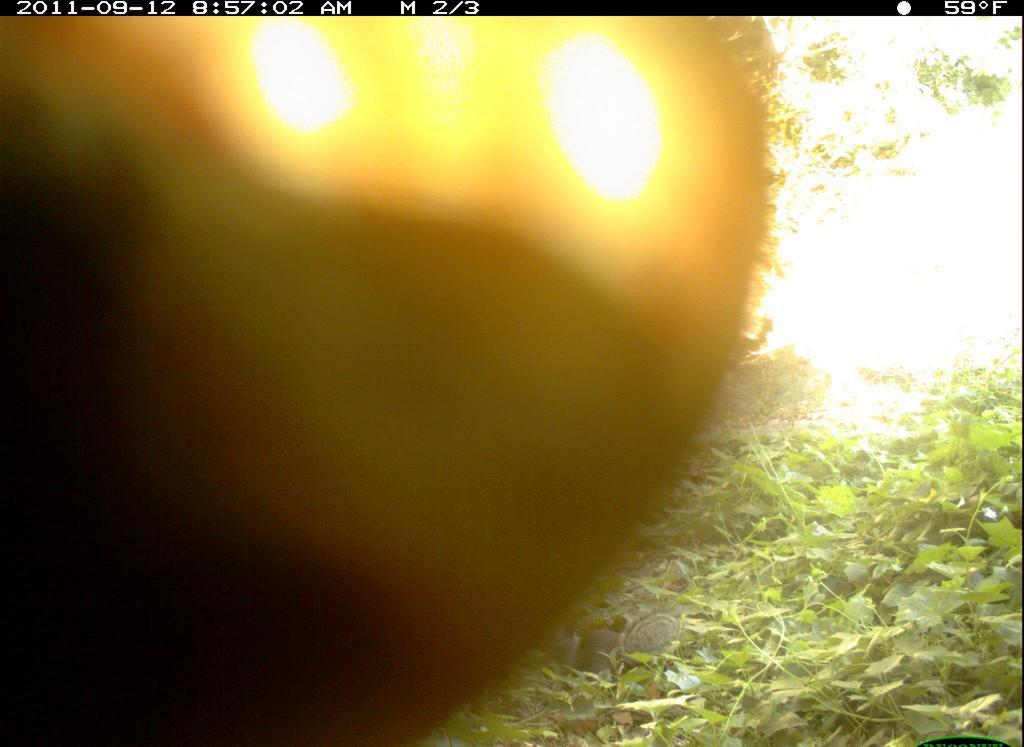squirrel: (536, 608, 687, 686)
